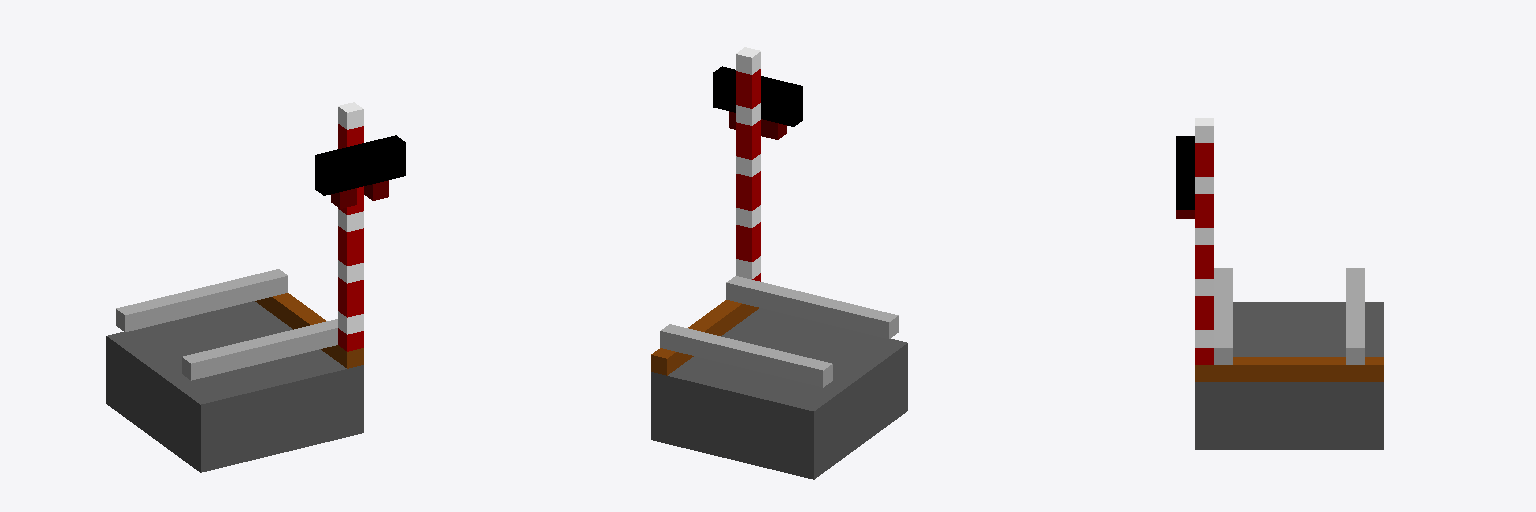
3 renders of one model, left to right at view 1: azimuth 30°, elevation 25°; view 2: azimuth 150°, elevation 25°; view 3: azimuth 270°, elevation 25°, orthographic.
Visible parts, largest first — view 1: object 1; view 2: object 1; view 3: object 1.
Boxes of the visible parts, x1=… form: object 1: x1=106, y1=102, x2=405, y2=472; object 1: x1=651, y1=47, x2=907, y2=479; object 1: x1=1176, y1=118, x2=1383, y2=449.
Bounding box in the file's own units: 1.2 × 1.9 × 1.1.
1 materials, 1 textured.